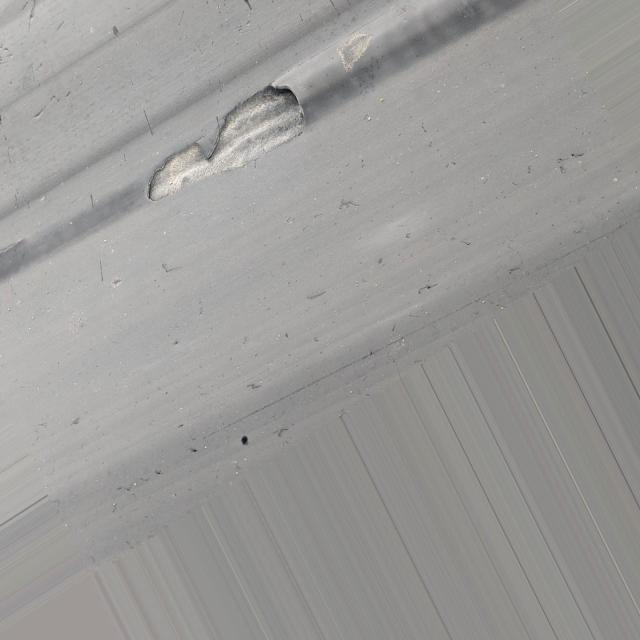Impact Damage: (142, 79, 314, 210)
